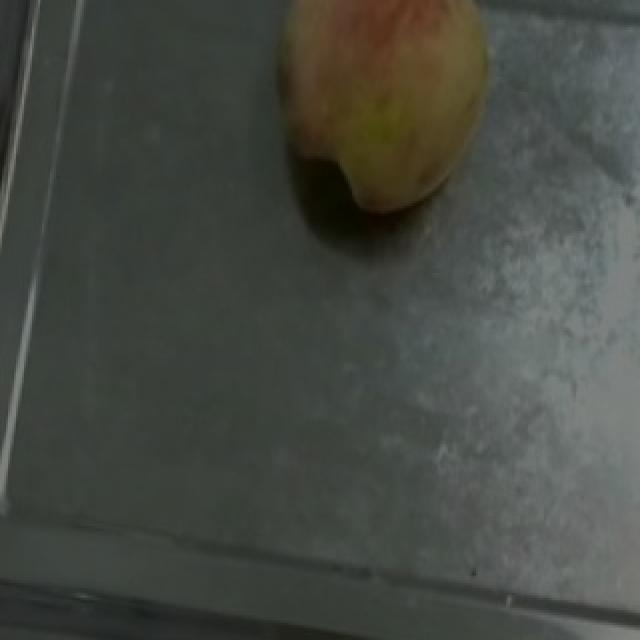Fruit: (242, 0, 512, 226)
